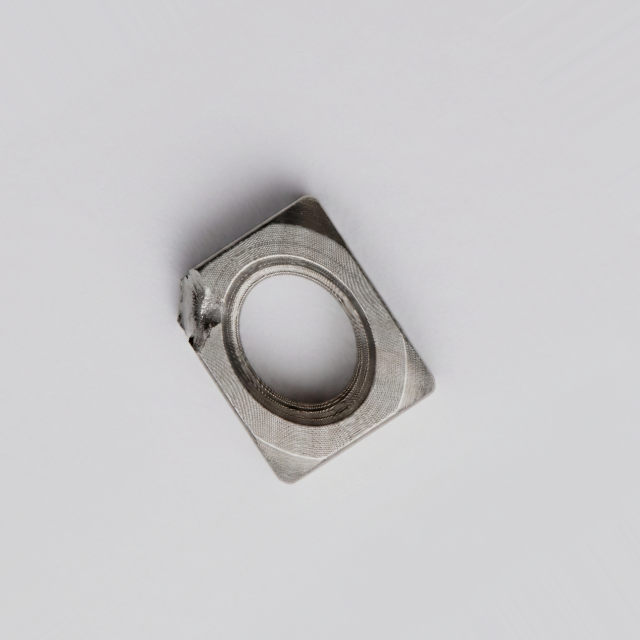defect: (169, 263, 228, 352)
